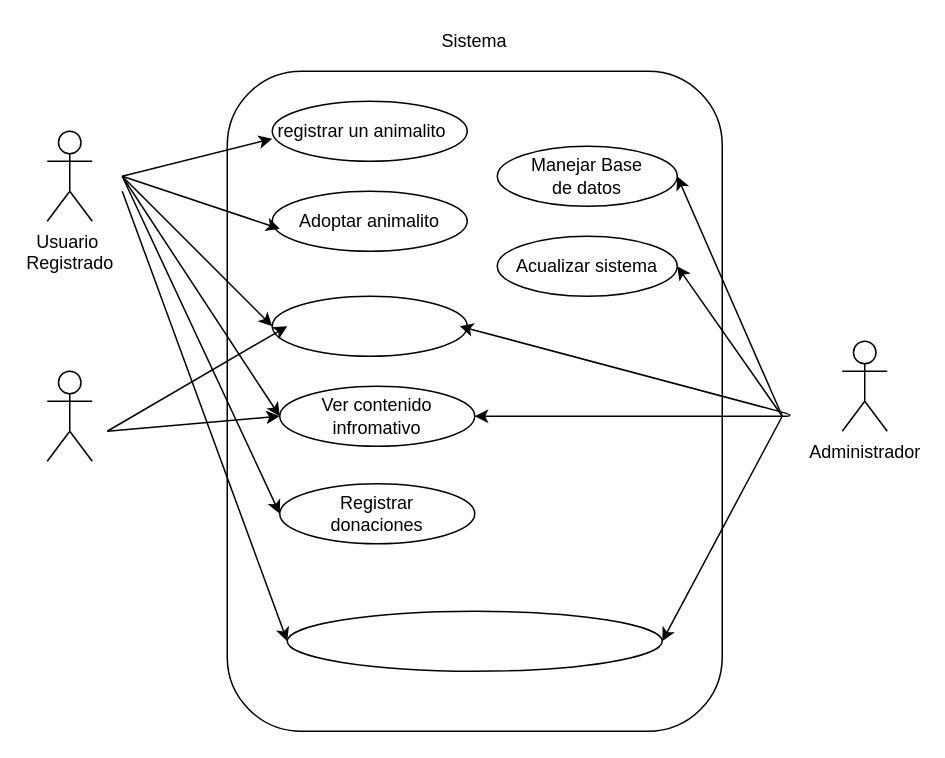
This 945x758 diagram has some shape labels left out. The centre of each missing label's shape, as x and y in pixels:
Iniciar sesion: pixel 474 640
Usuario no Registrado: pixel 69 415
ver listado de animalitos: pixel 369 325
